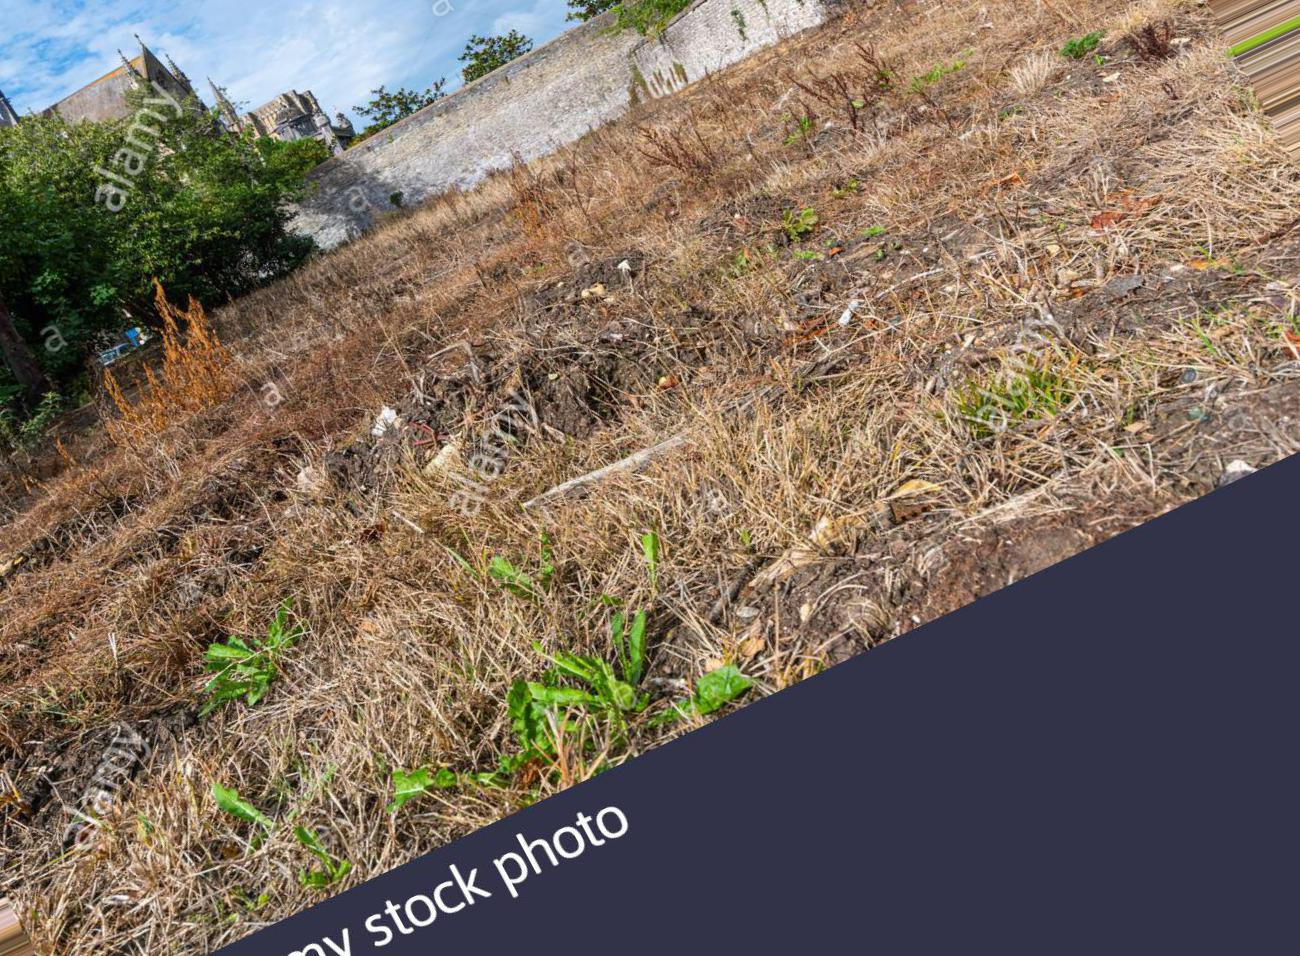patch: (122, 365, 954, 564), (412, 220, 1200, 374), (668, 105, 1205, 224), (843, 37, 1164, 96)
